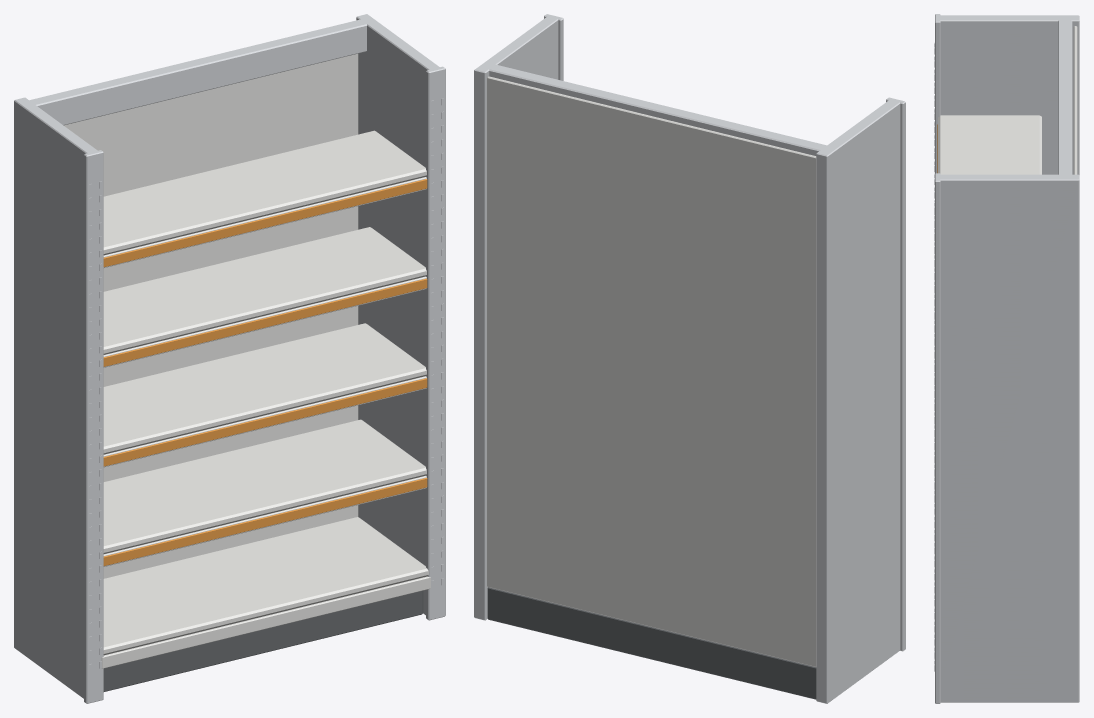
The picture shows the model from 3 angles, left to right: view 1: azimuth 30°, elevation 25°; view 2: azimuth 150°, elevation 25°; view 3: azimuth 270°, elevation 25°; orthographic projection. The views are drawn at different scales.
Parts seen in each view (by area): view 1: shop-bay-2000; view 2: shop-bay-2000; view 3: shop-bay-2000.
Part boxes in pixels (bbox=[...]): shop-bay-2000: bbox=[14, 14, 445, 703]; shop-bay-2000: bbox=[474, 14, 905, 703]; shop-bay-2000: bbox=[934, 14, 1079, 703].
Size of the model in its own units: 1.37 by 2 by 0.503.
